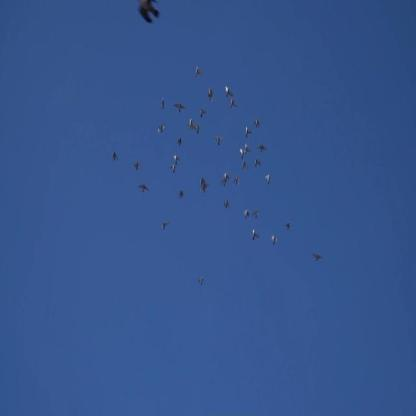bird: (136, 1, 162, 26), (173, 101, 186, 113), (207, 85, 215, 103), (256, 143, 267, 156), (199, 182, 210, 194), (225, 85, 234, 98), (138, 183, 149, 193), (157, 122, 165, 135), (252, 228, 260, 241), (312, 252, 322, 262), (194, 66, 203, 77), (161, 220, 170, 231), (159, 95, 165, 111), (230, 98, 238, 110), (188, 117, 194, 133), (245, 125, 253, 137), (198, 275, 206, 287), (133, 161, 141, 172), (215, 135, 222, 147), (271, 234, 278, 246), (199, 107, 207, 117), (196, 121, 201, 137), (245, 142, 250, 158), (254, 116, 260, 129), (255, 157, 261, 170), (223, 198, 229, 211), (239, 148, 246, 159), (173, 153, 180, 164), (170, 163, 177, 174), (112, 150, 118, 162), (242, 159, 248, 171), (200, 176, 206, 187), (244, 209, 250, 220), (253, 209, 259, 220), (266, 174, 271, 187), (285, 219, 290, 232), (220, 179, 227, 188), (224, 171, 229, 183), (178, 137, 183, 148), (235, 176, 240, 187), (179, 189, 184, 200)
